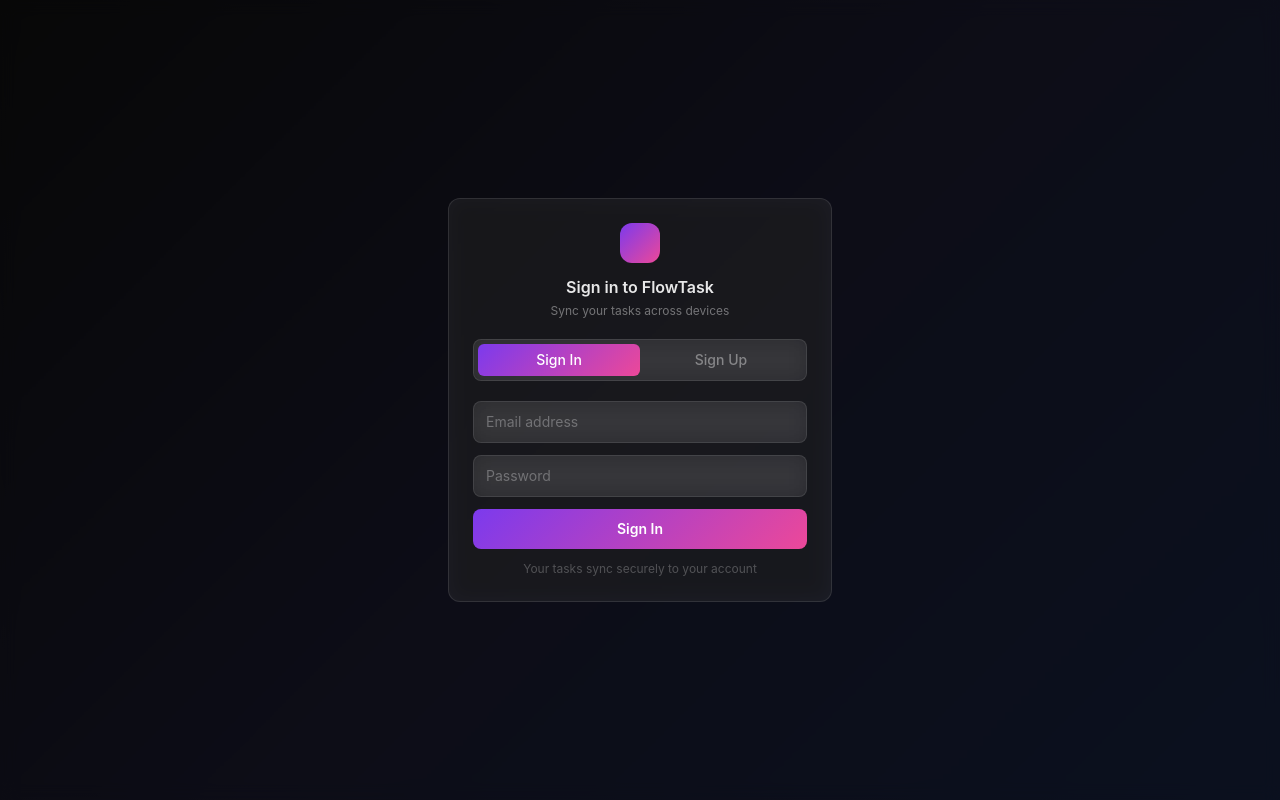
Test: AuthModal › switches to Sign Up tab on click
The width and height of the screenshot is (1280, 800).
Click the tab "Sign Up": {"x": 721, "y": 360} [695,351,747,368]
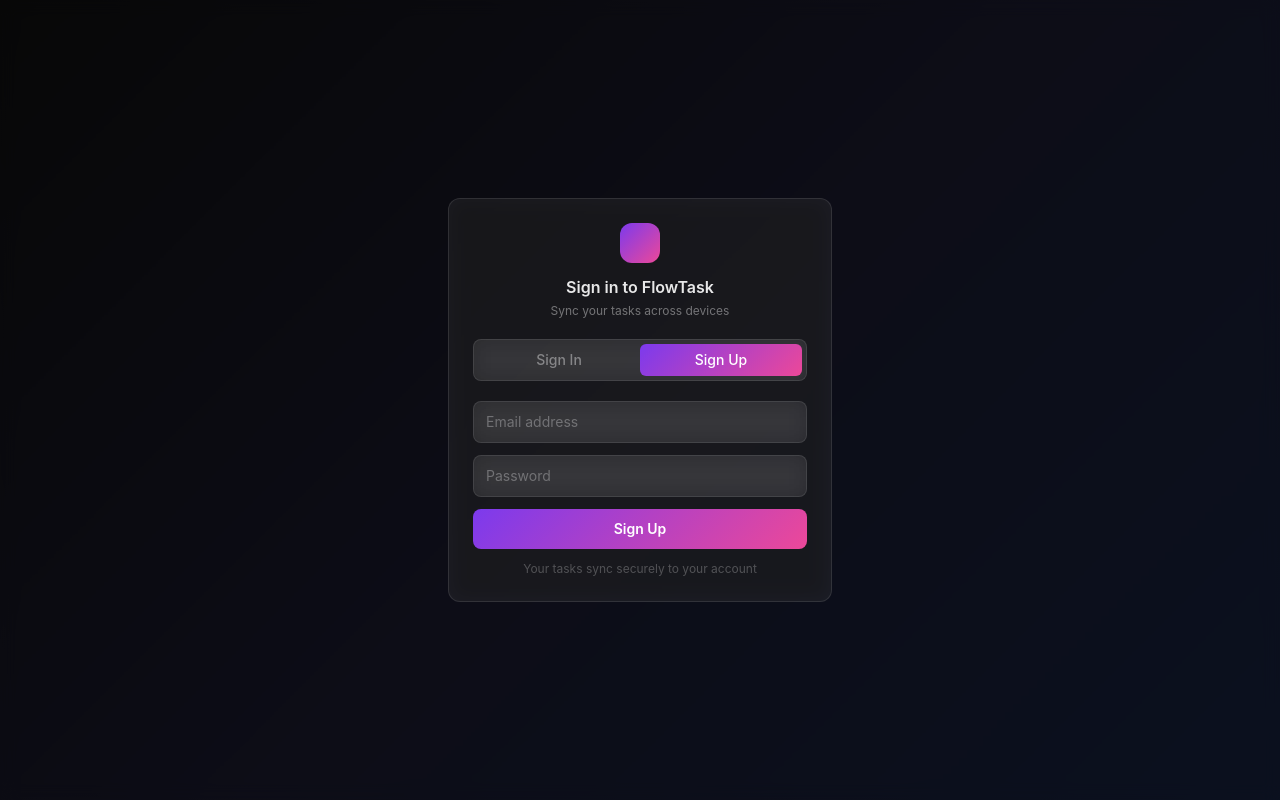
Now the button "Sign Up" is shown, box [473,509,807,549]
